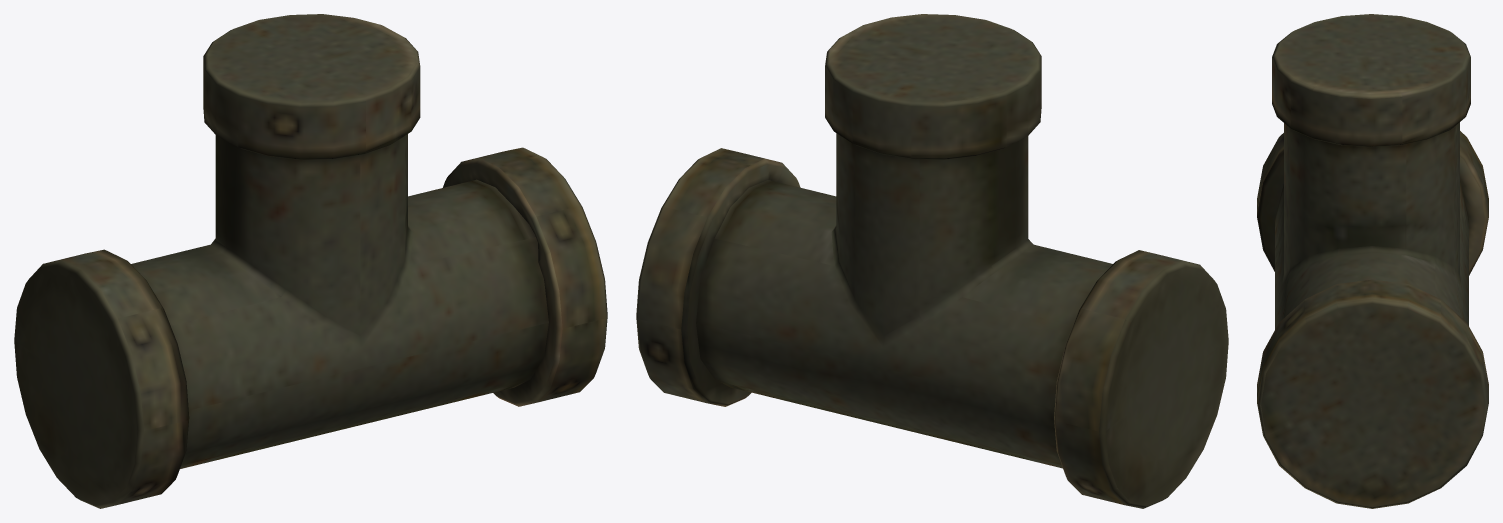
Rendered from pipe_y_junction.fbx.
3 views of the same model, side by side, from view 1: azimuth 30°, elevation 25°; view 2: azimuth 150°, elevation 25°; view 3: azimuth 270°, elevation 25° (orthographic). The views are drawn at different scales.
Visible parts, largest first — view 1: pipe_y_junction; view 2: pipe_y_junction; view 3: pipe_y_junction.
Part boxes in pixels (x1=…): pipe_y_junction: x1=14, y1=14, x2=607, y2=508; pipe_y_junction: x1=636, y1=14, x2=1228, y2=508; pipe_y_junction: x1=1257, y1=14, x2=1488, y2=508.
Size of the model in its own units: 105 by 82.12 by 49.06.
